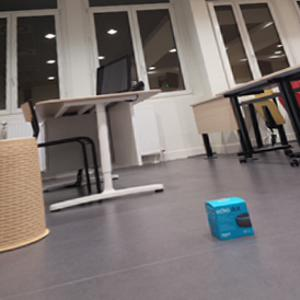medium: (1, 134, 50, 250)
small: (205, 197, 254, 242)
